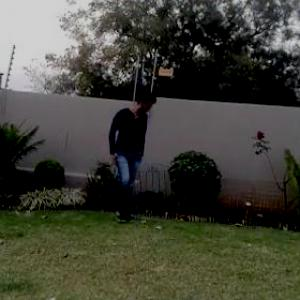follow: (104, 87, 148, 224)
